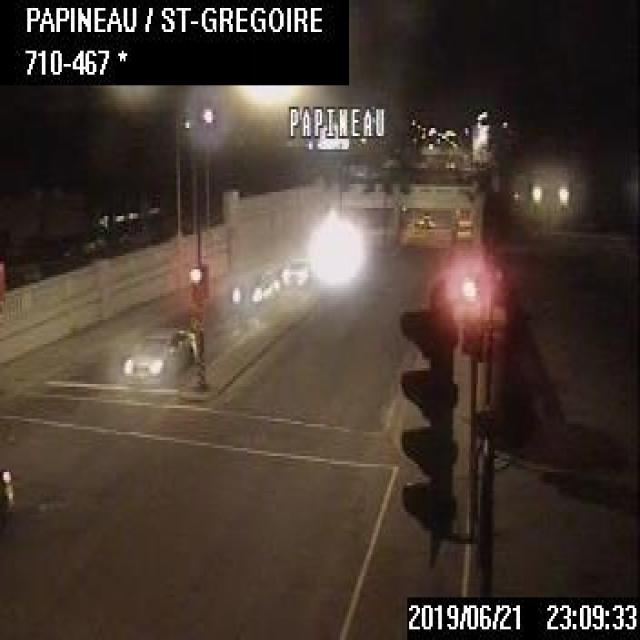vehicle: (122, 326, 196, 382), (229, 273, 266, 309), (280, 256, 307, 285), (0, 464, 15, 512), (414, 210, 433, 226)
